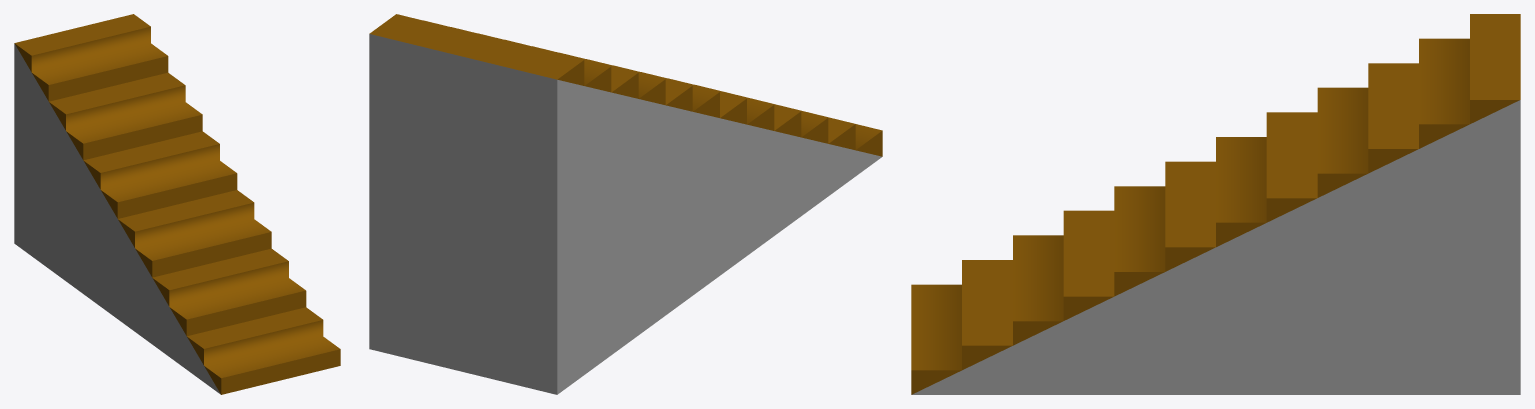
File: Stair_Half_1x3.fbx
3 renders of one model, left to right at view 1: azimuth 30°, elevation 25°; view 2: azimuth 150°, elevation 25°; view 3: azimuth 270°, elevation 25°, orthographic. The views are drawn at different scales.
Visible parts, largest first — view 1: Stair_Half_1x3; view 2: Stair_Half_1x3; view 3: Stair_Half_1x3.
Part boxes in pixels (box(x1,y1,x2,y2)): Stair_Half_1x3: box(14, 14, 340, 394); Stair_Half_1x3: box(369, 14, 882, 394); Stair_Half_1x3: box(911, 14, 1520, 394).
Bounding box in the file's own units: 1 × 1.6 × 3.
